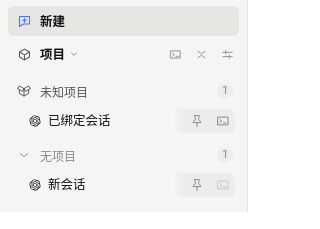
Test: Sidebar unified sessions › keeps unbound terminals accessible and merges them once identity is known
Click the button titled "新会话 · /repo/x" at [130, 185], box [28,174,233,196]
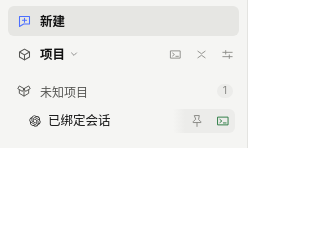
Now the text "已绑定会话" is shown once, box [48,111,110,131]
